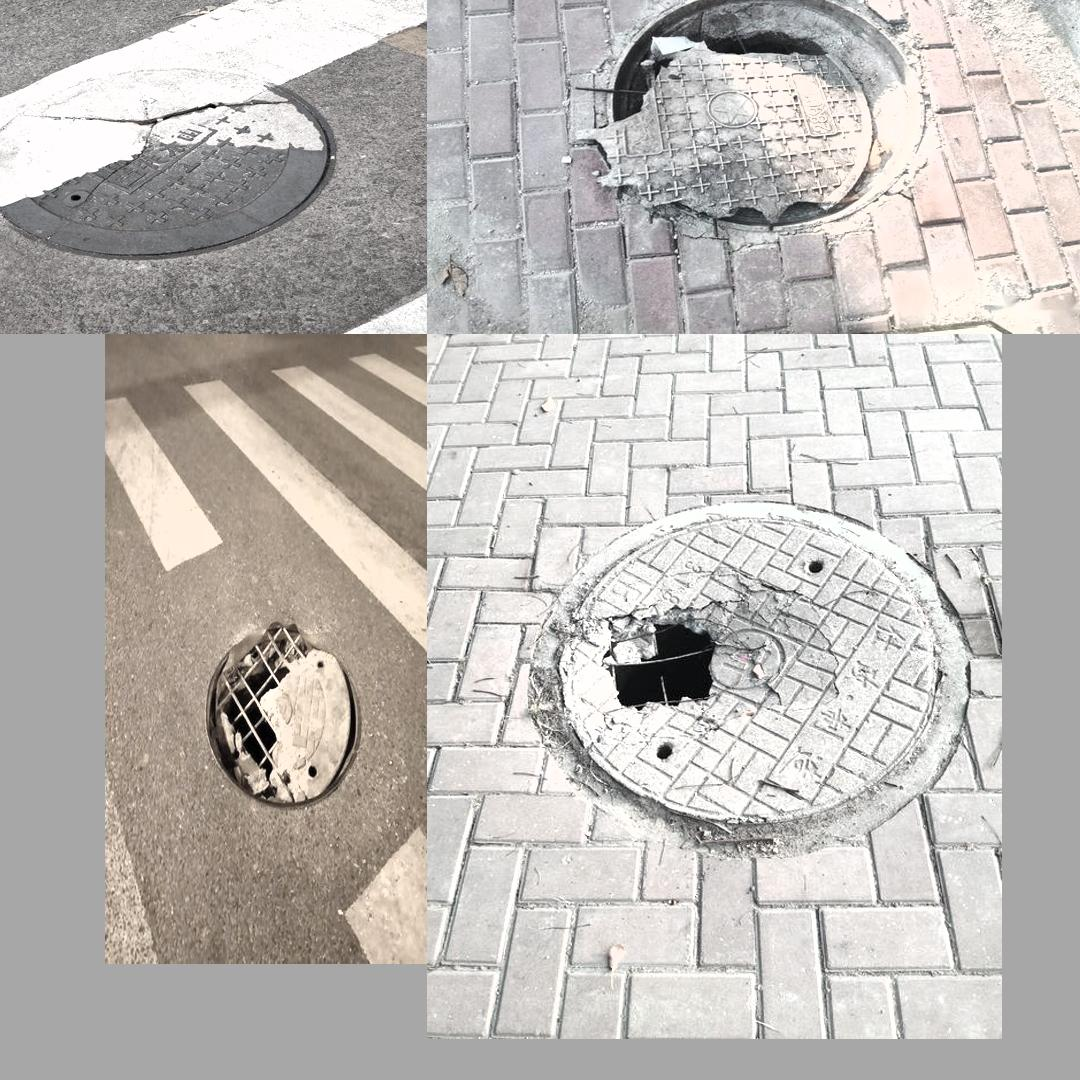broke: (514, 485, 977, 860), (577, 0, 944, 243), (0, 56, 356, 260), (195, 611, 371, 816)
